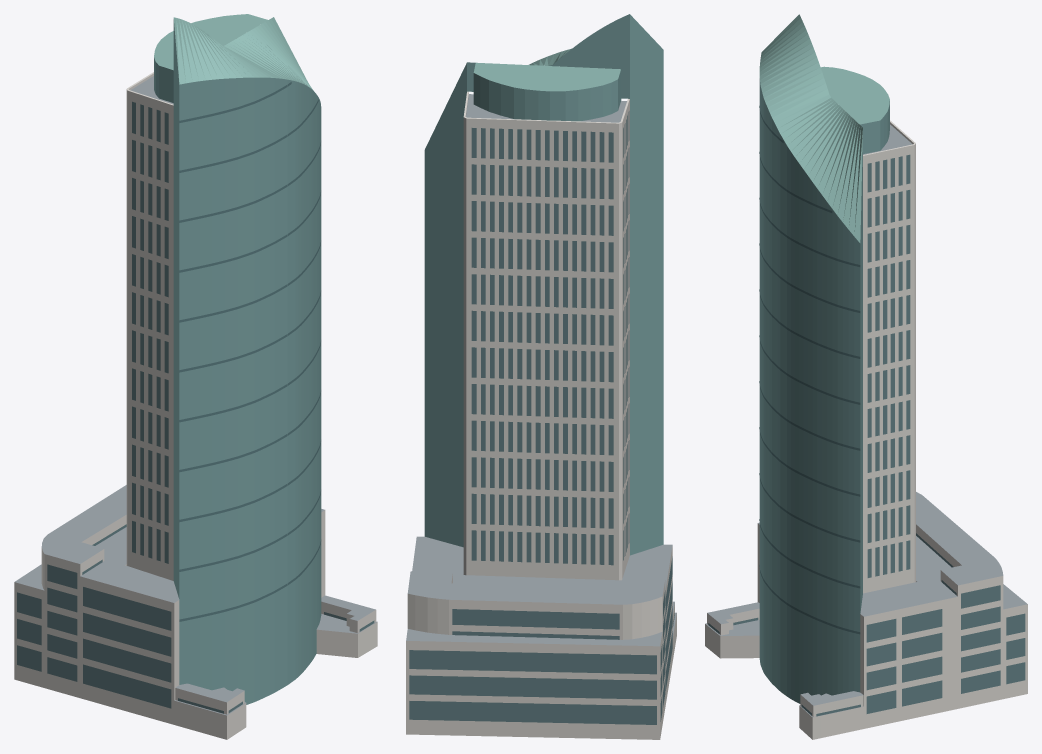
File: mexico-city-torre-mayor.glb
3 renders of one model, left to right at view 1: azimuth 30°, elevation 25°; view 2: azimuth 150°, elevation 25°; view 3: azimuth 270°, elevation 25°, orthographic. The views are drawn at different scales.
Parts seen in each view (by area): view 1: Torre Mayor; view 2: Torre Mayor; view 3: Torre Mayor.
Part boxes in pixels (<box>): Torre Mayor: <box>14,14,377,739</box>; Torre Mayor: <box>406,14,676,739</box>; Torre Mayor: <box>705,14,1027,739</box>.
Size of the model in its own units: 105 by 225 by 104.
